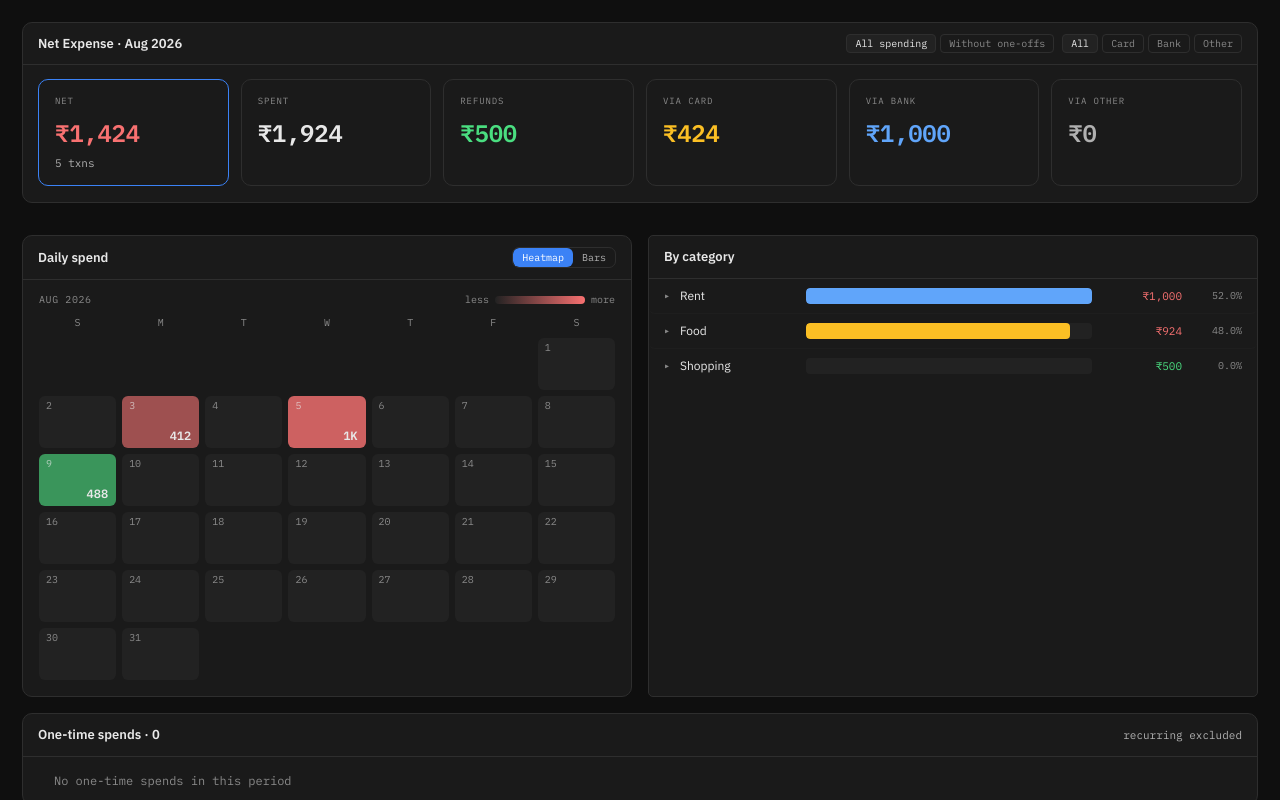
it: ExpenseOverview › the Card filter refetches with funding=card and updates headline, categories and list
Click the button "Card" at (1123, 44), box [1102, 34, 1144, 53]
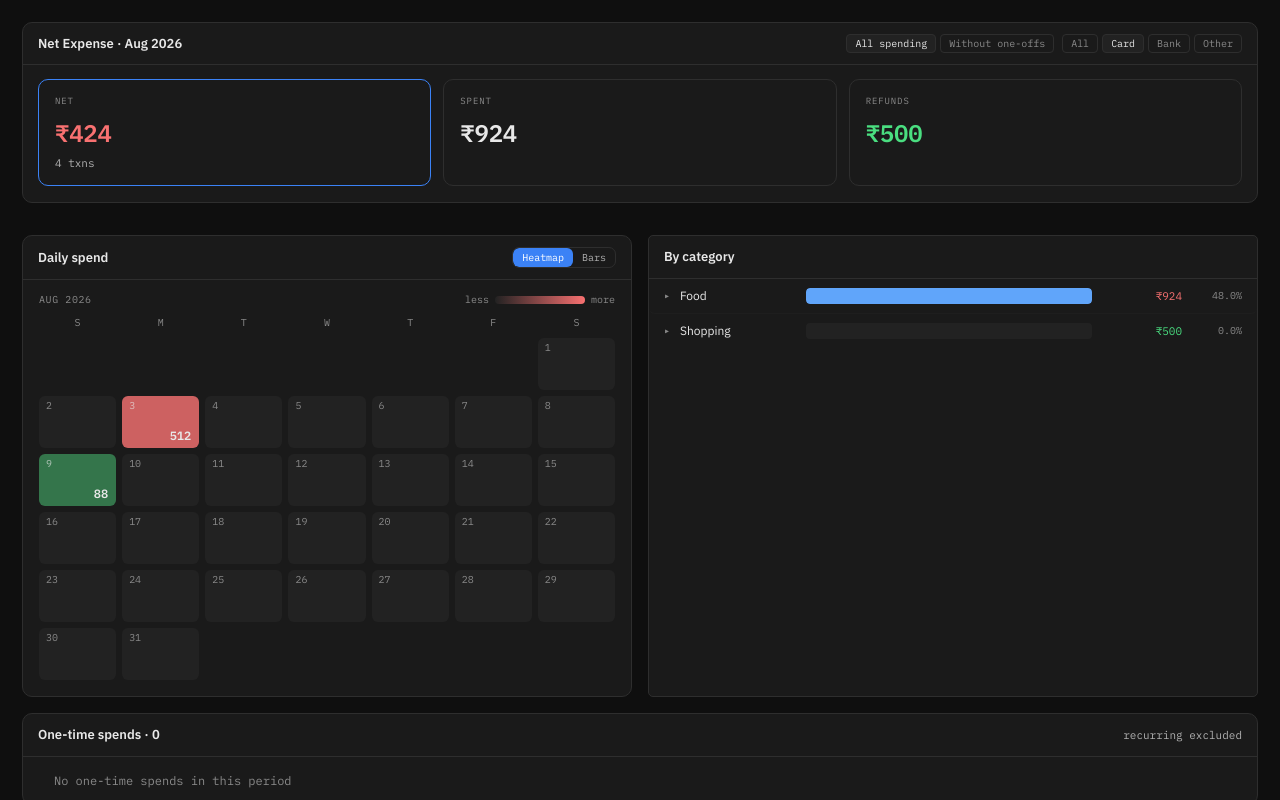
Expected: the text "₹424" is shown, [55, 117, 112, 149]
Expected: the text "₹1,424" is gone
Expected: the button "Rent" is gone
